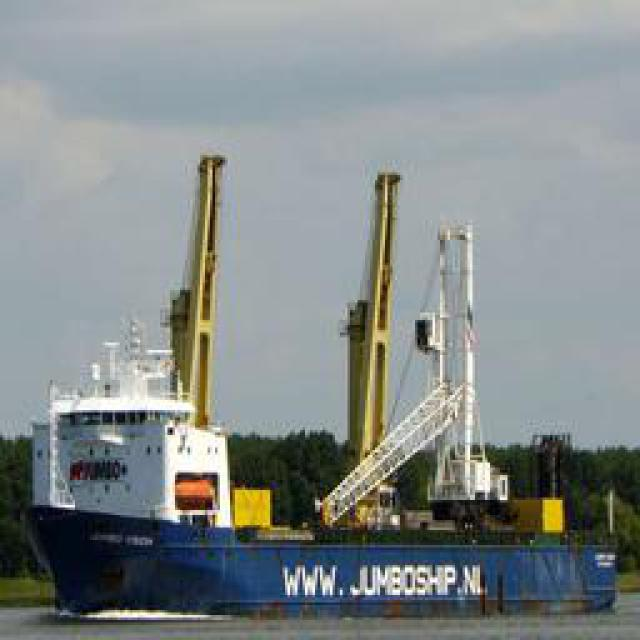Ship: (32, 142, 628, 624)
